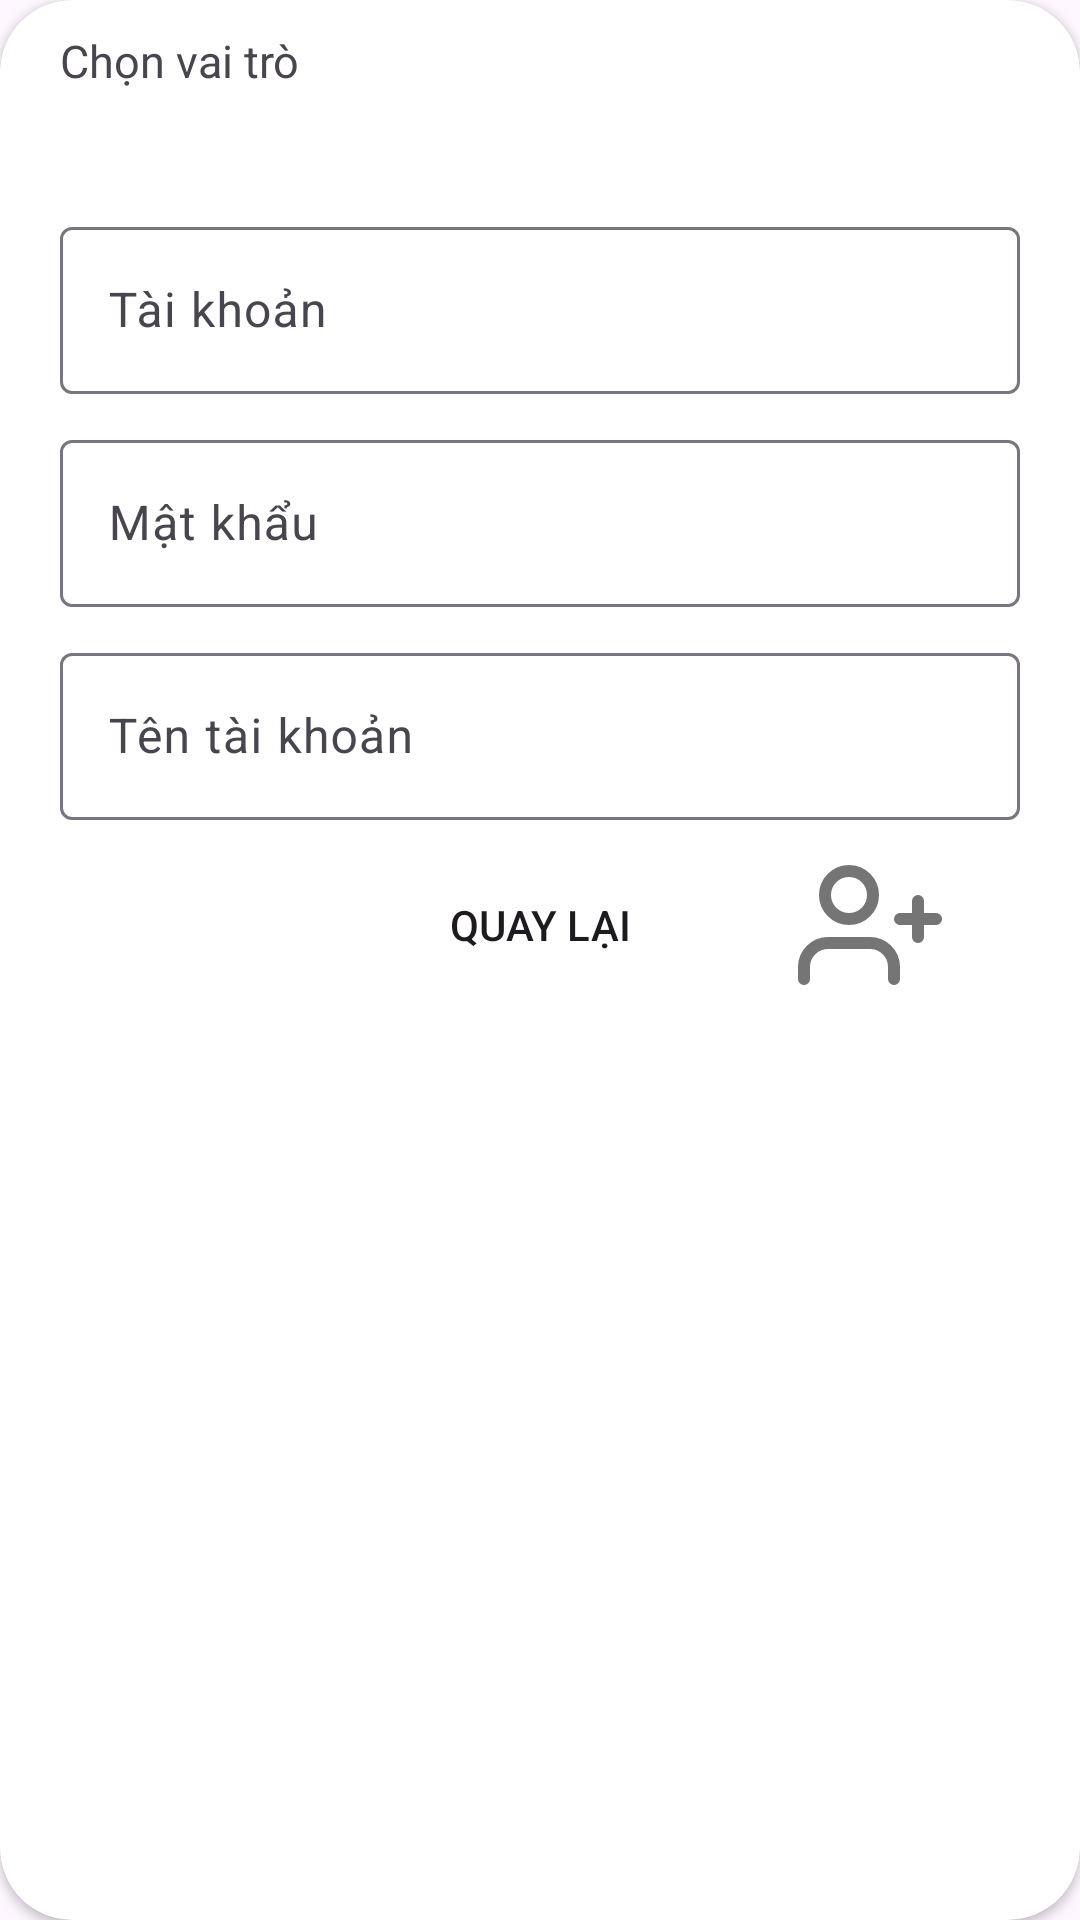

Locate icon controls on the screen. Image size 1080 × 1920, boxes as (x1, y1, x2, y2).
user plus: (798, 865, 942, 985)
